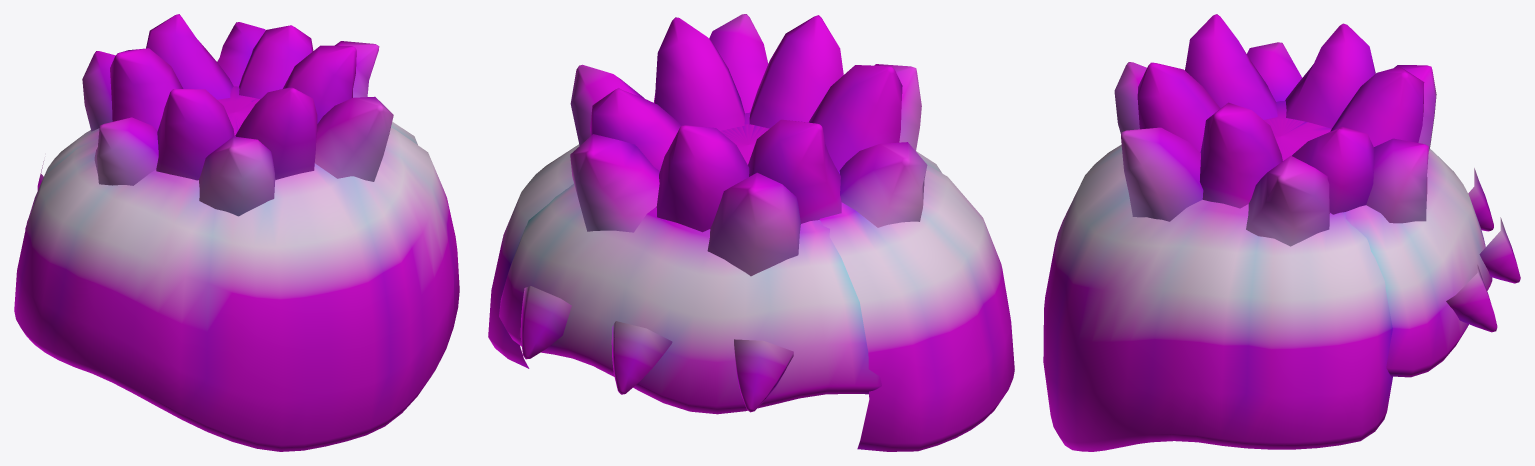
The model's file is spiky_low.glb.
The picture shows the model from 3 angles, left to right: view 1: azimuth 30°, elevation 25°; view 2: azimuth 150°, elevation 25°; view 3: azimuth 270°, elevation 25°; orthographic projection. The views are drawn at different scales.
Visible parts, largest first — view 1: spiky; view 2: spiky; view 3: spiky.
Boxes of the visible parts, x1,y1,x2,y2 form: spiky: (14,14,459,451); spiky: (488,14,1014,451); spiky: (1043,14,1520,451).
Size of the model in its own units: 0.9265 by 0.7237 by 0.8698.
